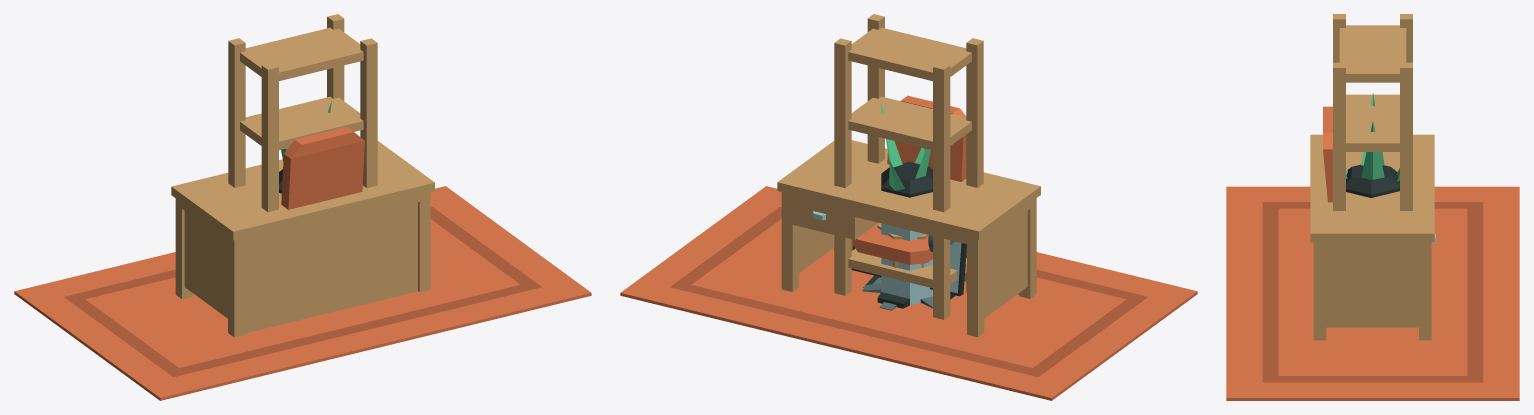
File: office-kit.glb
The picture shows the model from 3 angles, left to right: view 1: azimuth 30°, elevation 25°; view 2: azimuth 150°, elevation 25°; view 3: azimuth 270°, elevation 25°; orthographic projection.
Parts seen in each view (by area): view 1: rugRectangle, desk, bookcaseOpen, chairDesk; view 2: rugRectangle, desk, bookcaseOpen, chairDesk, trashcan, pottedPlant, computerScreen, bookcaseOpenLow; view 3: rugRectangle, desk, bookcaseOpen, trashcan, chairDesk, pottedPlant.
Part boxes in pixels (bbox=[...]): rugRectangle: bbox=[14, 186, 591, 400]; desk: bbox=[171, 141, 434, 337]; bookcaseOpen: bbox=[228, 14, 377, 212]; chairDesk: bbox=[281, 127, 364, 209]; rugRectangle: bbox=[620, 186, 1197, 400]; desk: bbox=[777, 140, 1040, 337]; bookcaseOpen: bbox=[834, 14, 983, 319]; chairDesk: bbox=[853, 95, 966, 310]; trashcan: bbox=[877, 162, 932, 308]; pottedPlant: bbox=[877, 101, 930, 281]; computerScreen: bbox=[851, 241, 966, 296]; bookcaseOpenLow: bbox=[834, 155, 975, 316]; rugRectangle: bbox=[1226, 186, 1519, 400]; desk: bbox=[1310, 134, 1435, 340]; bookcaseOpen: bbox=[1333, 14, 1412, 210]; trashcan: bbox=[1346, 164, 1399, 197]; chairDesk: bbox=[1323, 106, 1332, 202]; pottedPlant: bbox=[1346, 93, 1399, 181].
Bounding box in the file's own units: 1.57 × 0.88 × 0.92.
